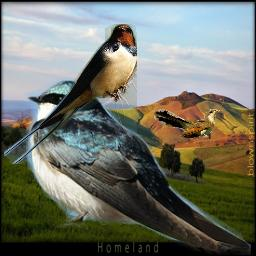Cuckoo: (154, 109, 220, 138)
Swallow: (25, 78, 251, 255), (4, 24, 137, 164)
